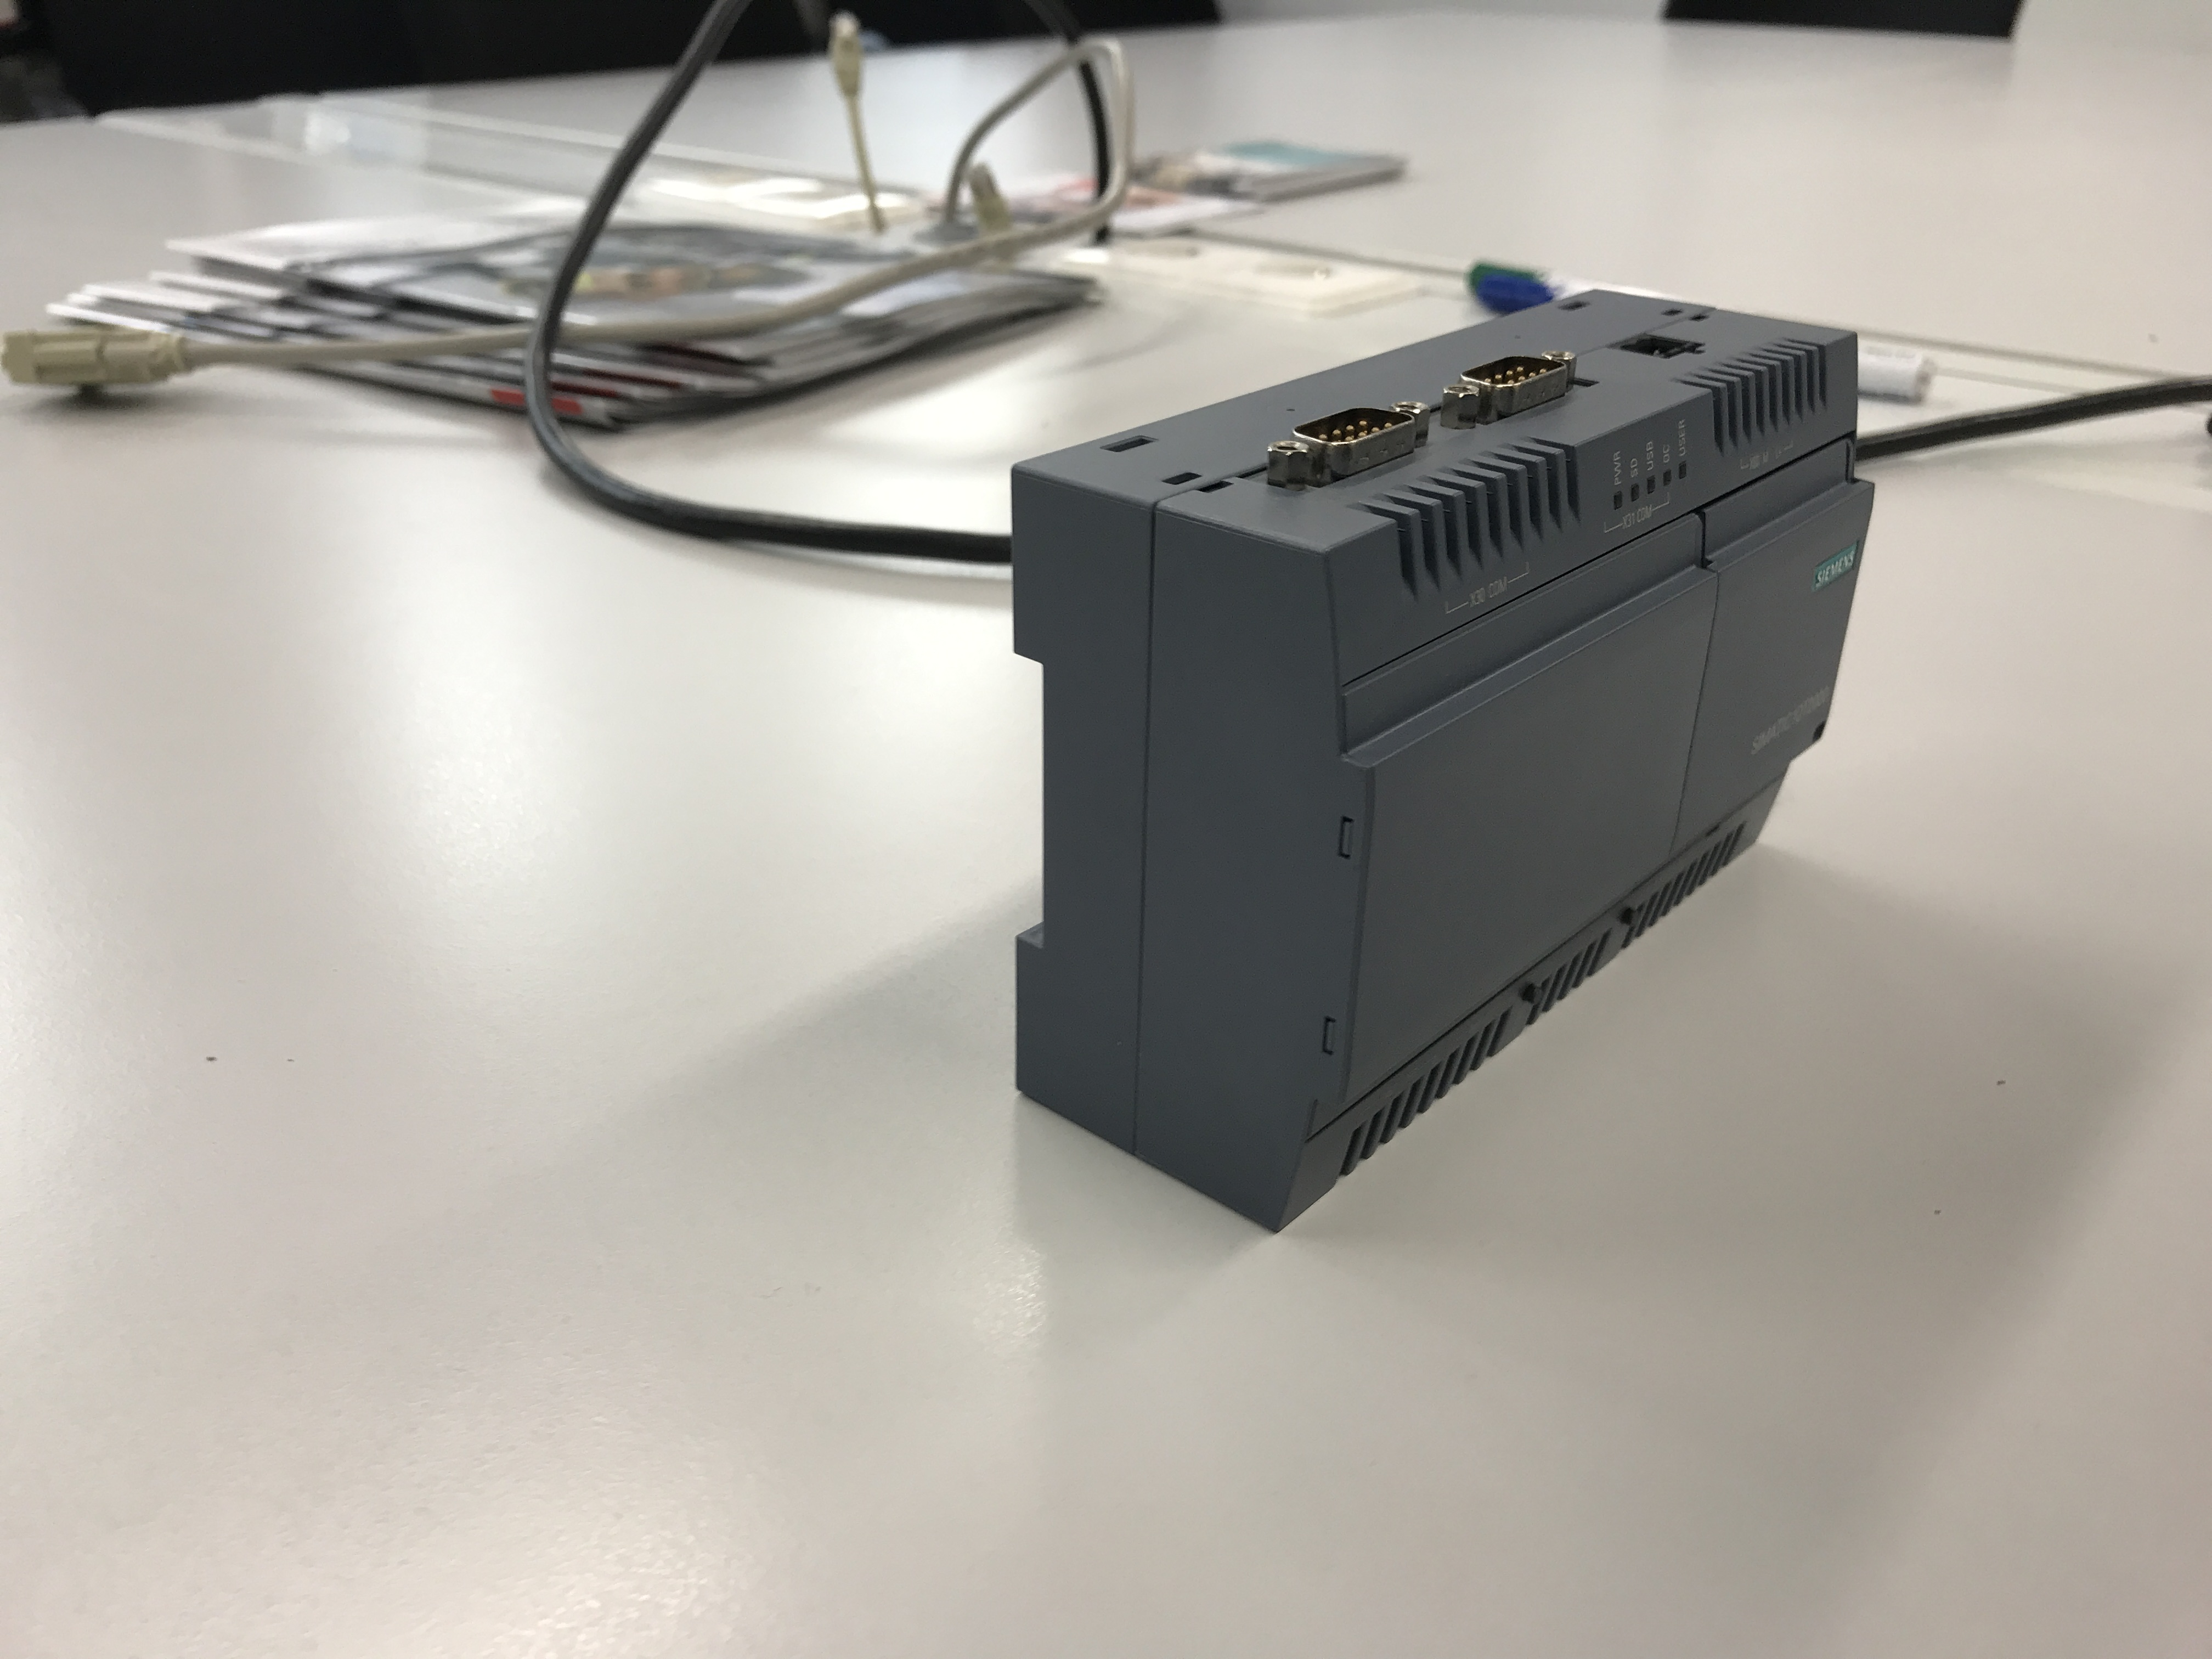device: (1012, 286, 1878, 1237)
